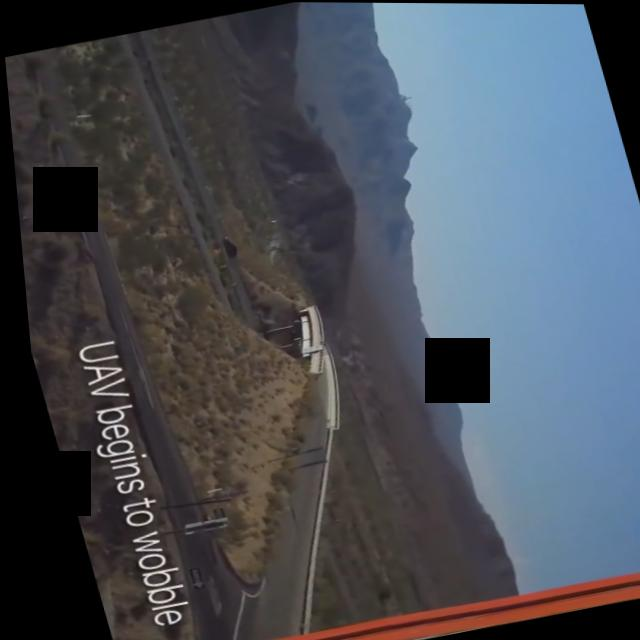Building: (120, 543, 640, 640)
